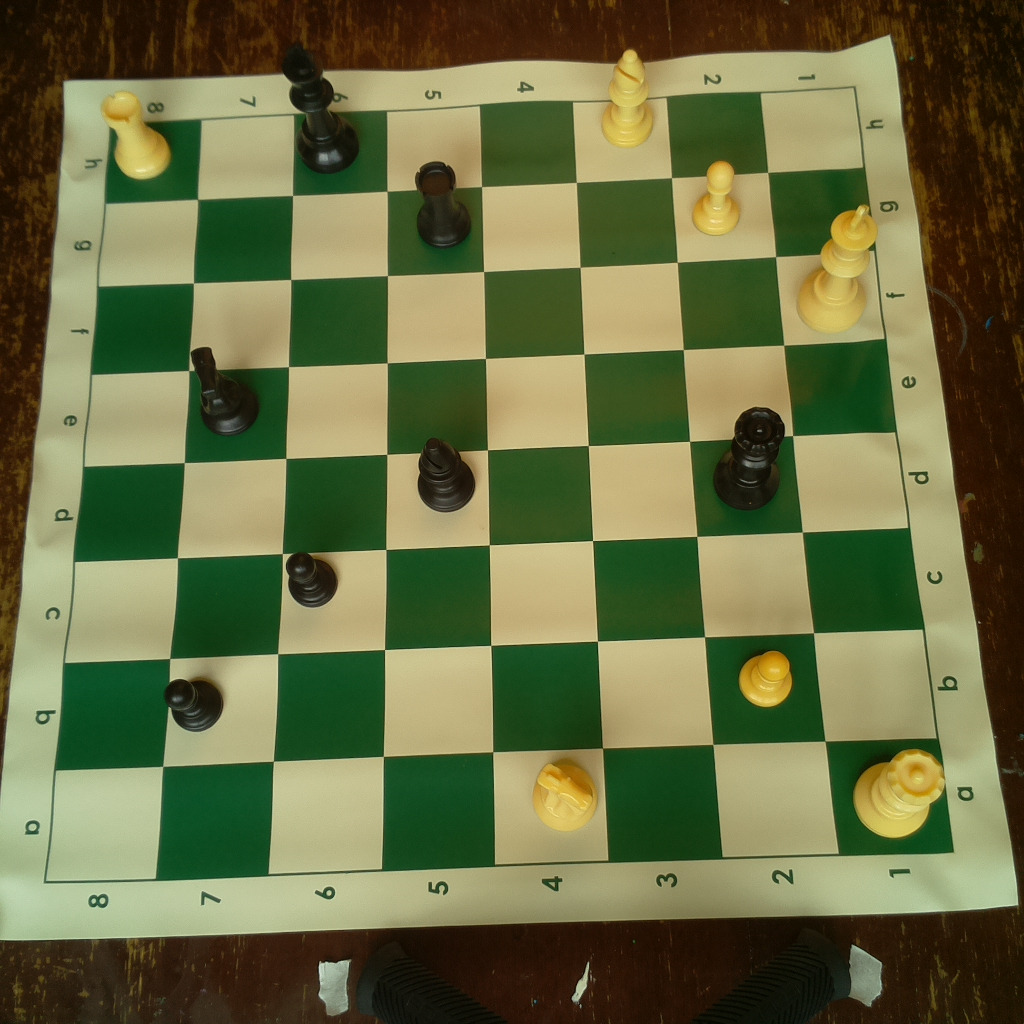black_bishop: (414, 435, 479, 515)
black_king: (283, 40, 360, 175)
black_knight: (186, 340, 263, 435)
black_pawn: (279, 545, 346, 609), (163, 670, 227, 735)
black_queen: (714, 401, 786, 513)
black_rook: (408, 160, 480, 252)
file_a: (46, 738, 959, 882)
file_b: (54, 628, 938, 775)
file_c: (62, 527, 924, 665)
file_d: (72, 431, 912, 565)
file_e: (84, 339, 893, 465)
file_f: (90, 251, 889, 374)
file_g: (99, 166, 877, 287)
file_h: (103, 86, 864, 205)
outline: (45, 87, 958, 877)
rank_1: (760, 87, 955, 858)
rank_2: (667, 92, 838, 857)
rank_3: (573, 96, 724, 862)
rank_4: (481, 101, 612, 866)
rank_5: (379, 102, 494, 870)
rank_6: (267, 110, 390, 877)
rank_7: (155, 118, 296, 884)
rank_8: (46, 121, 205, 883)
white_bishop: (598, 47, 657, 148)
white_king: (789, 196, 880, 339)
white_knight: (528, 754, 603, 835)
white_pawn: (690, 154, 749, 241), (737, 641, 801, 714)
white_queen: (847, 745, 947, 844)
white_rook: (97, 90, 172, 180)
